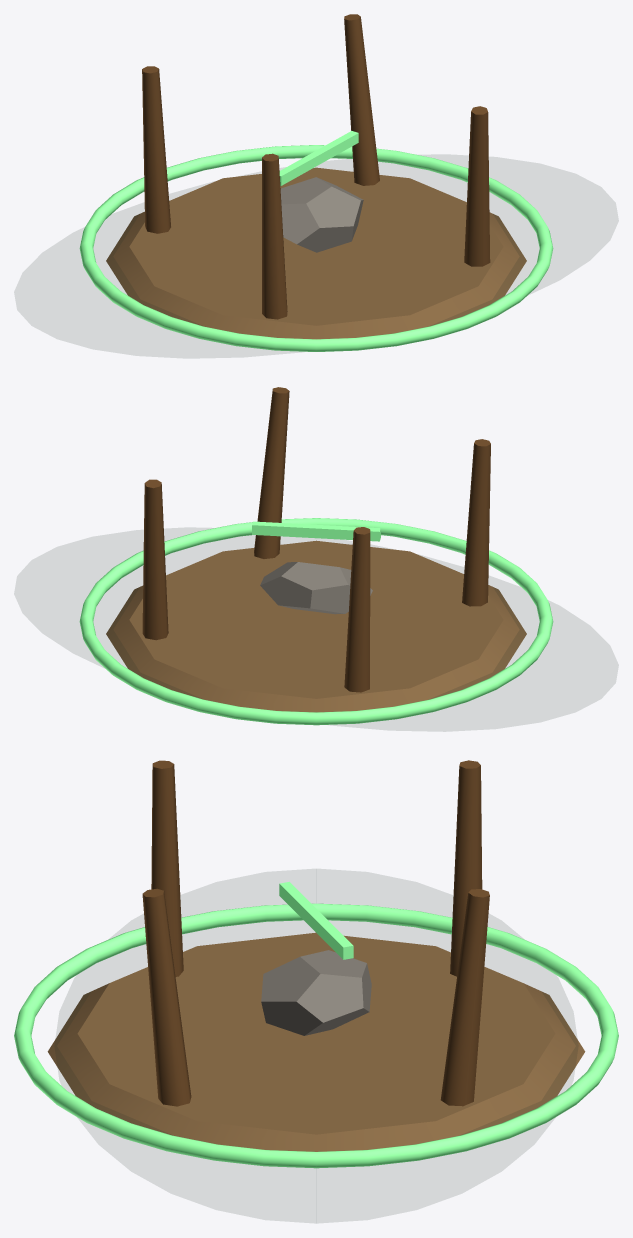
The model's file is trial_ground.glb.
3 views of the same model, one above another, from view 1: azimuth 30°, elevation 25°; view 2: azimuth 150°, elevation 25°; view 3: azimuth 270°, elevation 25° (orthographic). The views are drawn at different scales.
Visible parts, largest first — view 1: trial_ground_dirt_pad, soft_ground_shadow, trial_ground_ring, trial_ground_center_stone, trial_ground_post_2, trial_ground_post_3, trial_ground_post_1, trial_ground_post_0, trial_ground_score_bar; view 2: trial_ground_dirt_pad, soft_ground_shadow, trial_ground_ring, trial_ground_center_stone, trial_ground_post_1, trial_ground_post_2, trial_ground_post_3, trial_ground_post_0, trial_ground_score_bar; view 3: trial_ground_dirt_pad, soft_ground_shadow, trial_ground_ring, trial_ground_center_stone, trial_ground_post_0, trial_ground_post_3, trial_ground_post_1, trial_ground_post_2, trial_ground_score_bar.
Boxes of the visible parts, x1,y1,x2,y2 form: trial_ground_dirt_pad: (106, 167, 526, 339); soft_ground_shadow: (14, 155, 618, 357); trial_ground_ring: (79, 145, 553, 351); trial_ground_center_stone: (280, 177, 363, 252); trial_ground_post_2: (142, 66, 170, 233); trial_ground_post_3: (344, 14, 379, 185); trial_ground_post_1: (262, 153, 287, 319); trial_ground_post_0: (464, 106, 490, 266); trial_ground_score_bar: (279, 131, 358, 185); trial_ground_dirt_pad: (106, 540, 526, 712); soft_ground_shadow: (15, 528, 618, 731); trial_ground_ring: (79, 518, 553, 725); trial_ground_center_stone: (260, 562, 372, 614); trial_ground_post_1: (462, 439, 490, 606); trial_ground_post_2: (344, 527, 370, 692); trial_ground_post_3: (142, 479, 168, 640); trial_ground_post_0: (254, 387, 289, 558); trial_ground_score_bar: (252, 521, 380, 541); trial_ground_dirt_pad: (47, 932, 585, 1151); soft_ground_shadow: (55, 869, 577, 1222); trial_ground_ring: (14, 903, 618, 1168); trial_ground_center_stone: (261, 950, 371, 1035); trial_ground_post_0: (142, 888, 191, 1106); trial_ground_post_3: (440, 889, 489, 1106); trial_ground_post_1: (151, 760, 183, 976); trial_ground_post_2: (450, 760, 482, 976); trial_ground_score_bar: (279, 881, 353, 959).
Size of the model in its own units: 3.38 by 0.982 by 2.43.
